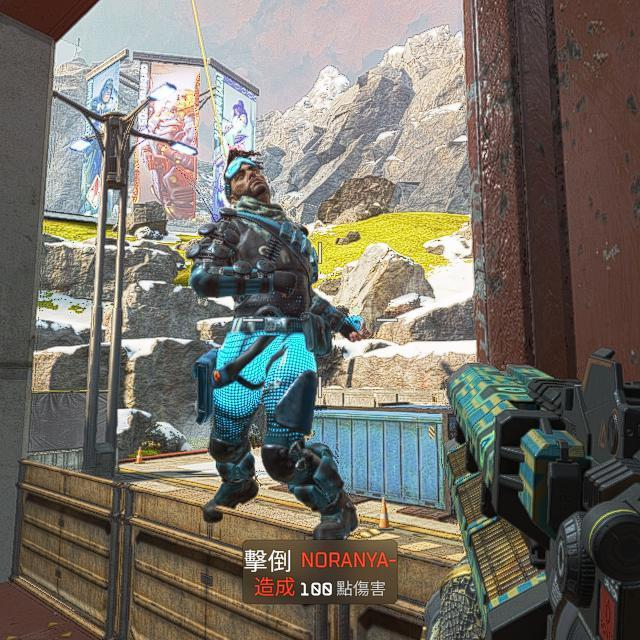avatar: (186, 149, 370, 536)
